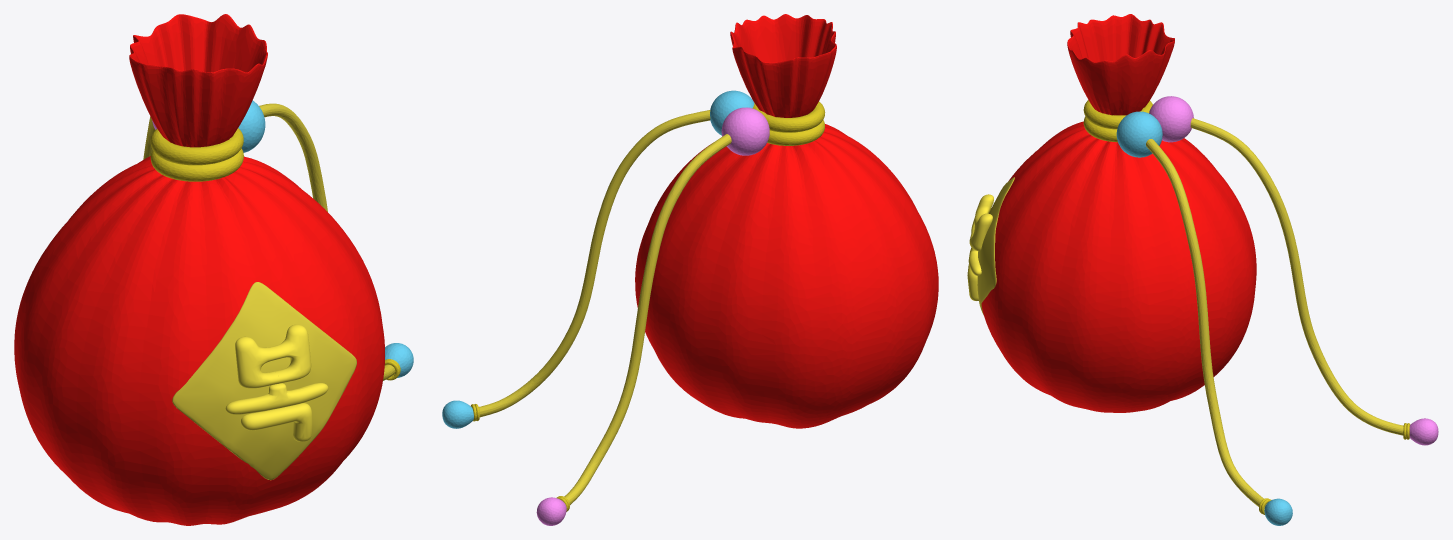
File: bok.glb
The picture shows the model from 3 angles, left to right: view 1: azimuth 30°, elevation 25°; view 2: azimuth 150°, elevation 25°; view 3: azimuth 270°, elevation 25°; orthographic projection. The views are drawn at different scales.
Visible parts, largest first — view 1: Cylinder.001; view 2: Cylinder.001; view 3: Cylinder.001.
Boxes of the visible parts, <box> form: Cylinder.001: <box>14,14,413,525</box>; Cylinder.001: <box>442,14,938,525</box>; Cylinder.001: <box>967,14,1438,525</box>.
Size of the model in its own units: 4.18 by 4.05 by 4.57.
